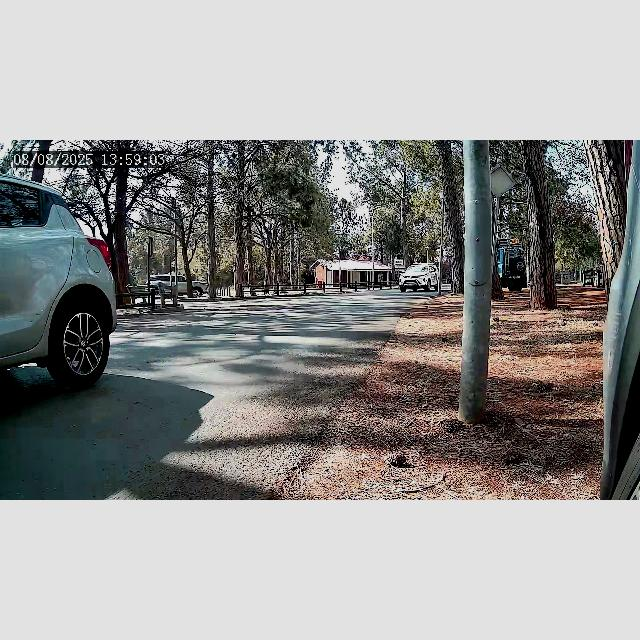car: (0, 179, 112, 385), (144, 272, 208, 298), (398, 263, 442, 295)
